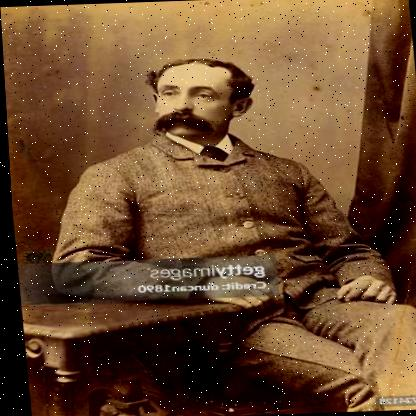person: (2, 40, 416, 416)
